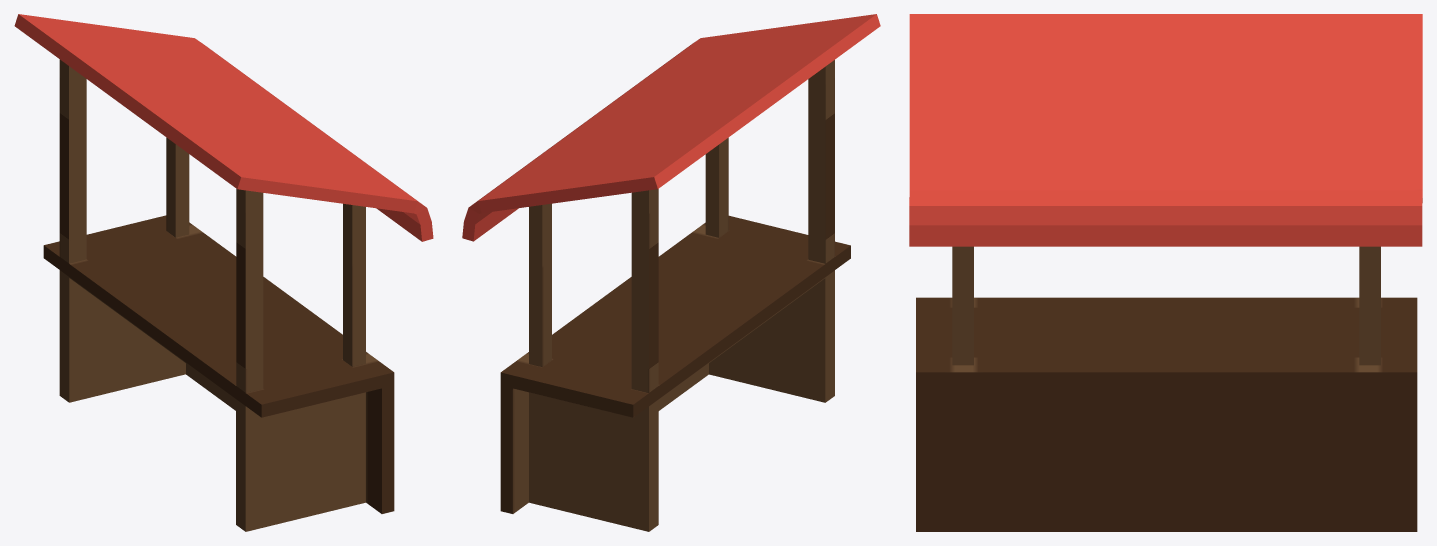
The model's file is stoisko.obj.
The picture shows the model from 3 angles, left to right: view 1: azimuth 30°, elevation 25°; view 2: azimuth 150°, elevation 25°; view 3: azimuth 270°, elevation 25°; orthographic projection. The views are drawn at different scales.
Visible parts, largest first — view 1: Cube.002; view 2: Cube.002; view 3: Cube.002.
Part boxes in pixels (x1,y1,x2,y2): Cube.002: [14, 14, 433, 531]; Cube.002: [462, 14, 880, 531]; Cube.002: [909, 14, 1422, 531].
Size of the model in its own units: 2.95 by 5.39 by 5.82.
1 material, 1 textured.
